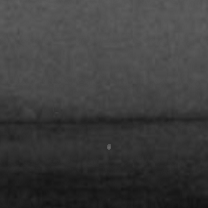Target: (106, 143, 112, 150)
